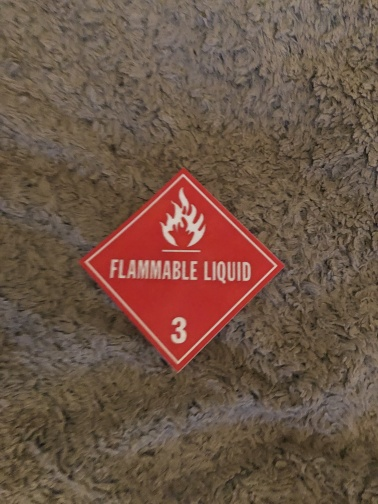FlammableLiquid: (75, 175, 280, 367)
